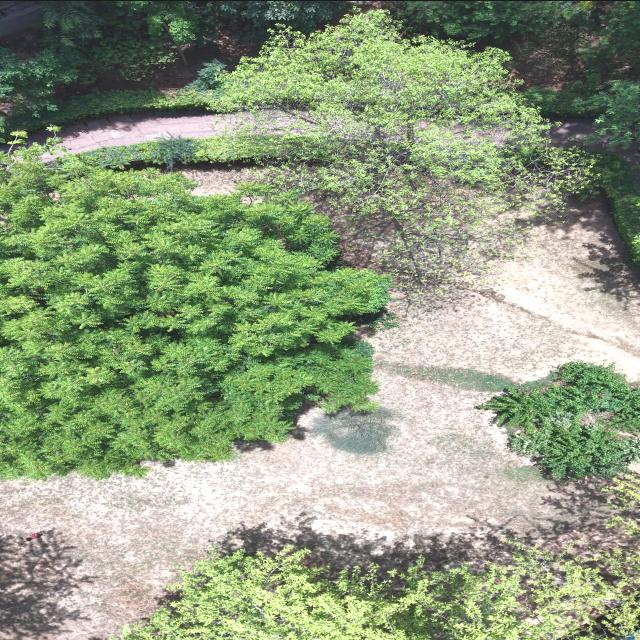DRY_AREA: (0, 196, 639, 639), (1, 372, 607, 639), (373, 195, 639, 381), (472, 195, 639, 379), (486, 194, 639, 379), (26, 108, 313, 159), (28, 109, 311, 159), (28, 108, 298, 159), (28, 109, 302, 159), (499, 261, 639, 356), (42, 110, 300, 159), (42, 110, 299, 159), (55, 108, 300, 152), (28, 108, 256, 154), (58, 110, 297, 152), (54, 109, 254, 152), (56, 110, 247, 152), (61, 113, 232, 152), (500, 26, 584, 90), (548, 117, 639, 165), (176, 163, 259, 195), (0, 1, 41, 36)
VEGETATION_TREE: (0, 1, 639, 477), (1, 2, 591, 477), (56, 11, 589, 292), (0, 150, 389, 478), (223, 11, 589, 292), (120, 546, 639, 639), (1, 1, 345, 128), (122, 549, 607, 639), (1, 1, 345, 124), (0, 1, 348, 118), (391, 1, 639, 145), (0, 1, 202, 114), (0, 2, 176, 129), (42, 1, 348, 67), (478, 361, 639, 478), (525, 1, 639, 146), (562, 475, 639, 639), (572, 1, 639, 146), (509, 411, 639, 478), (0, 42, 81, 135), (392, 1, 590, 37), (184, 1, 347, 39), (588, 151, 639, 262), (376, 362, 553, 391), (572, 80, 639, 146), (583, 1, 639, 79), (307, 408, 395, 454), (40, 1, 102, 44), (601, 473, 639, 538), (185, 58, 225, 90)
